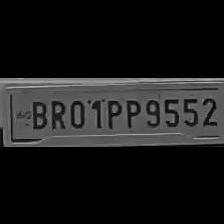0: (65, 96, 87, 128)
1: (88, 96, 104, 128)
2: (199, 93, 219, 127)
5: (160, 94, 180, 126), (180, 94, 198, 126)
9: (141, 94, 161, 128)
B: (28, 96, 48, 130)
P: (101, 96, 121, 128), (122, 96, 140, 128)
R: (47, 96, 66, 130)
